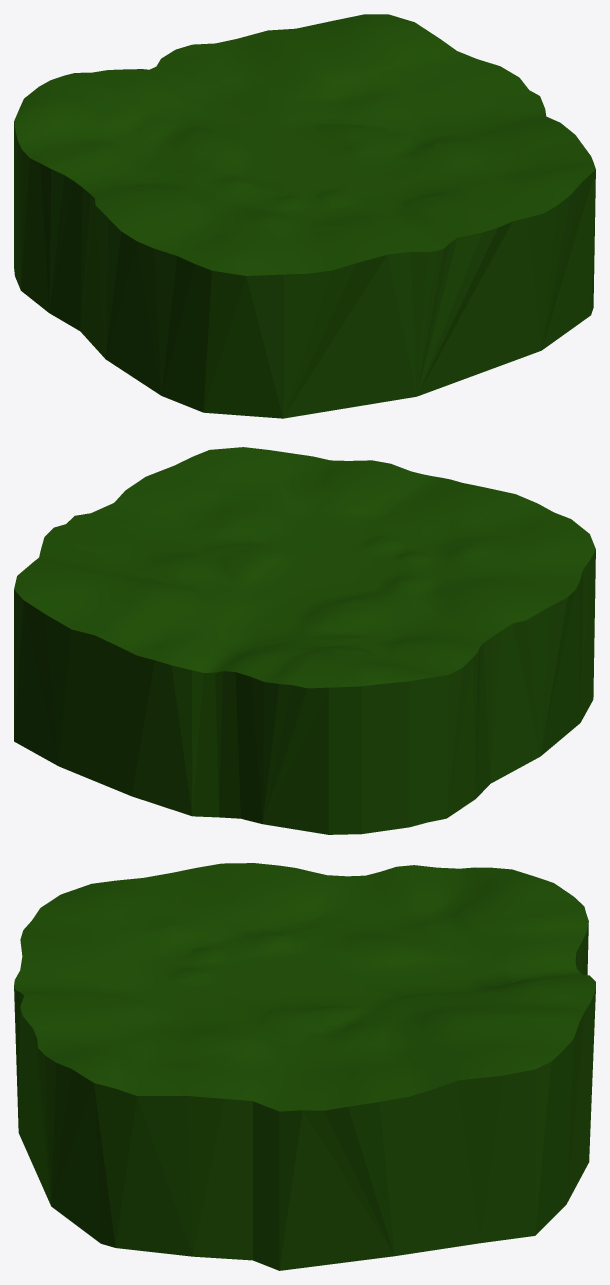
Rendered from wudaohui_dibiao.FBX.
3 views of the same model, one above another, from view 1: azimuth 30°, elevation 25°; view 2: azimuth 150°, elevation 25°; view 3: azimuth 270°, elevation 25° (orthographic). The views are drawn at different scales.
Visible parts, largest first — view 1: diqiuchangjing_dibiao; view 2: diqiuchangjing_dibiao; view 3: diqiuchangjing_dibiao.
Part boxes in pixels (box(x1,y1,x2,y2)): diqiuchangjing_dibiao: box(14, 14, 595, 418); diqiuchangjing_dibiao: box(14, 447, 595, 834); diqiuchangjing_dibiao: box(14, 863, 595, 1270).
Bounding box in the file's own units: 93049 × 32303 × 93894.
